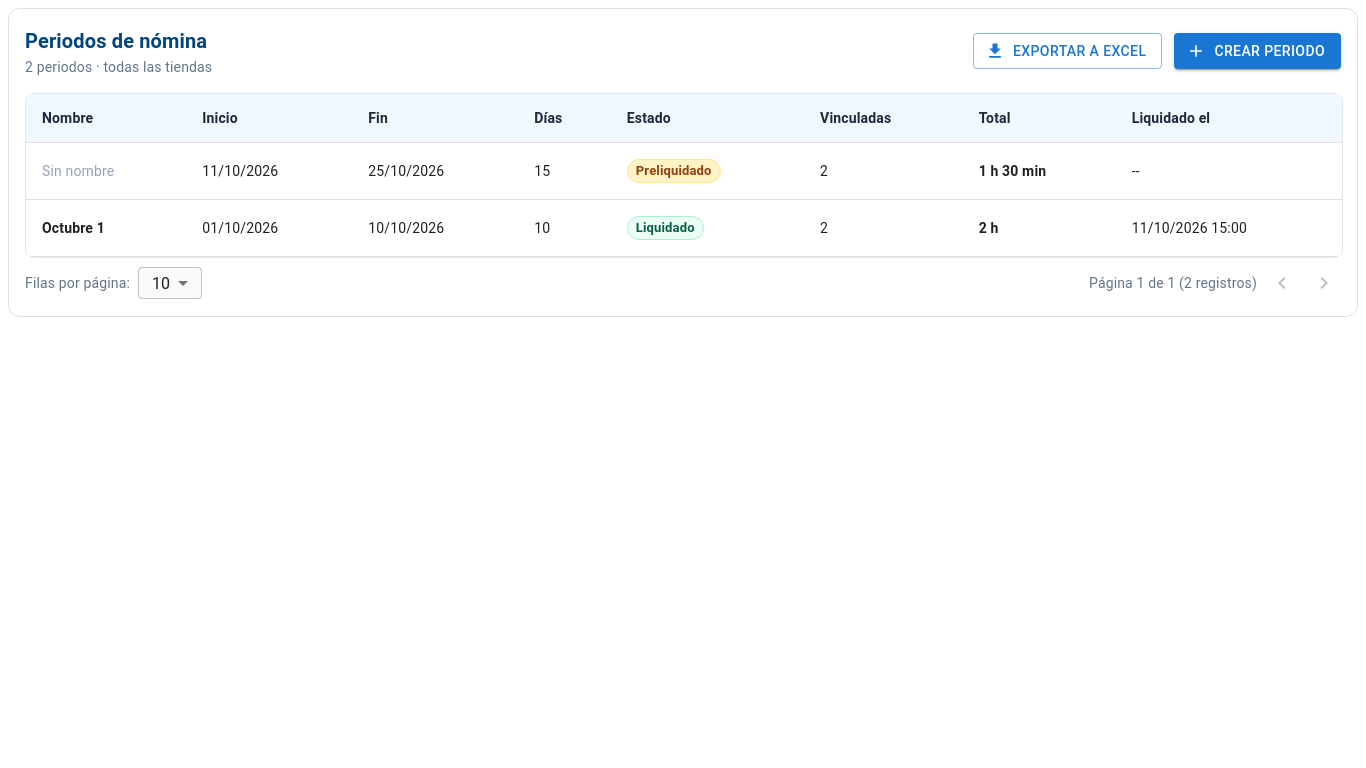
PeriodosPage › exportar a Excel › sin periodos seleccionados no exporta
Check: the row named "11/10/2026 al 25/10/2026" is shown, box x1=26 y1=142 x2=1342 y2=200
Click the button "Exportar a Excel": (1068, 51) x1=973 y1=33 x2=1162 y2=69
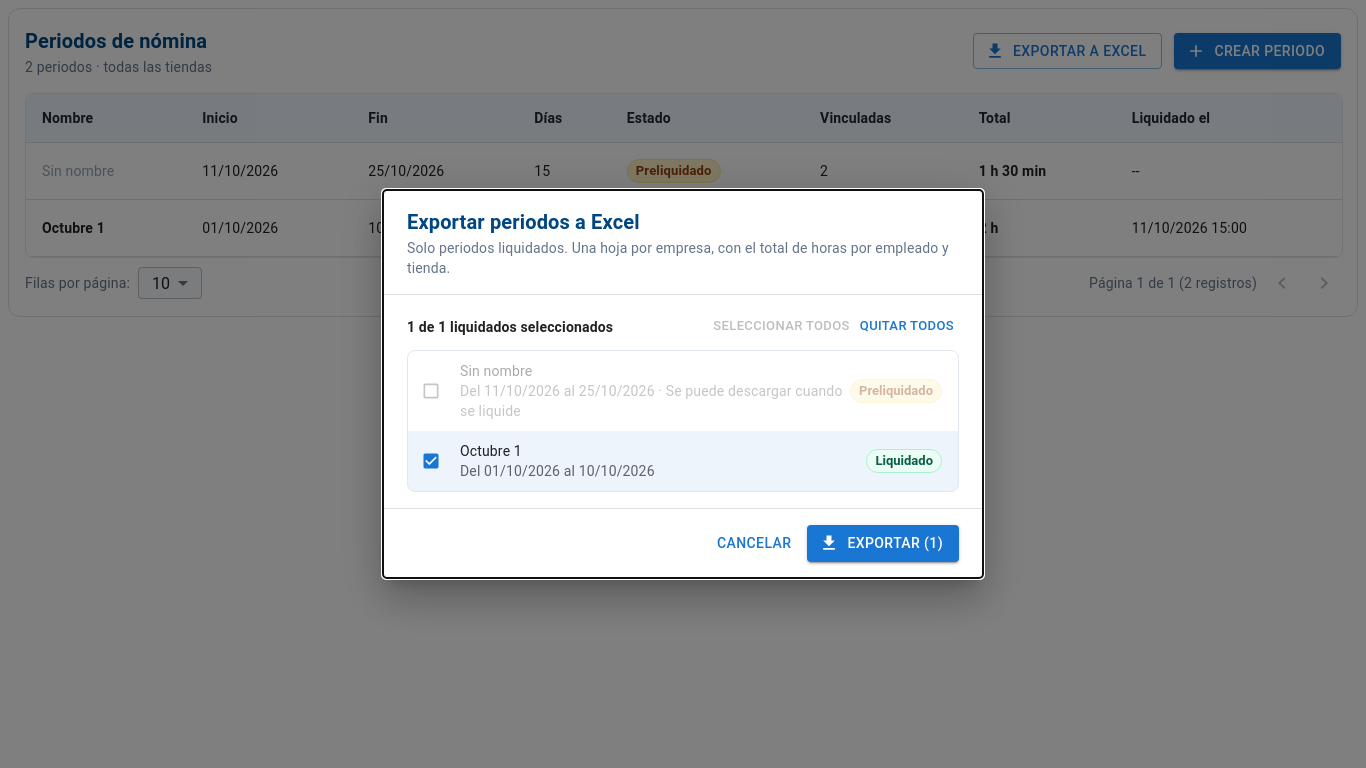
Click the button "Quitar todos": (907, 327) x1=855 y1=311 x2=959 y2=342
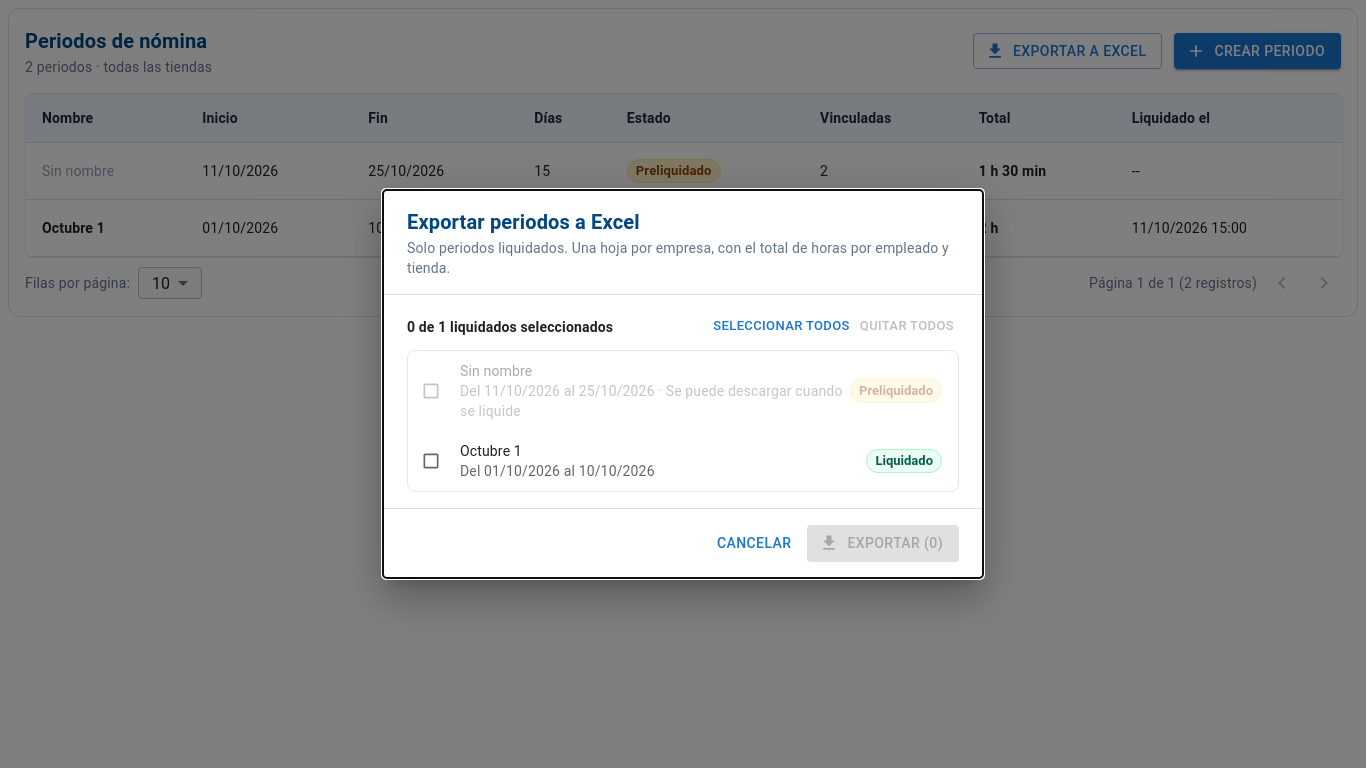
Check: the button "Exportar (0)" is disabled, box x1=807 y1=525 x2=959 y2=562
